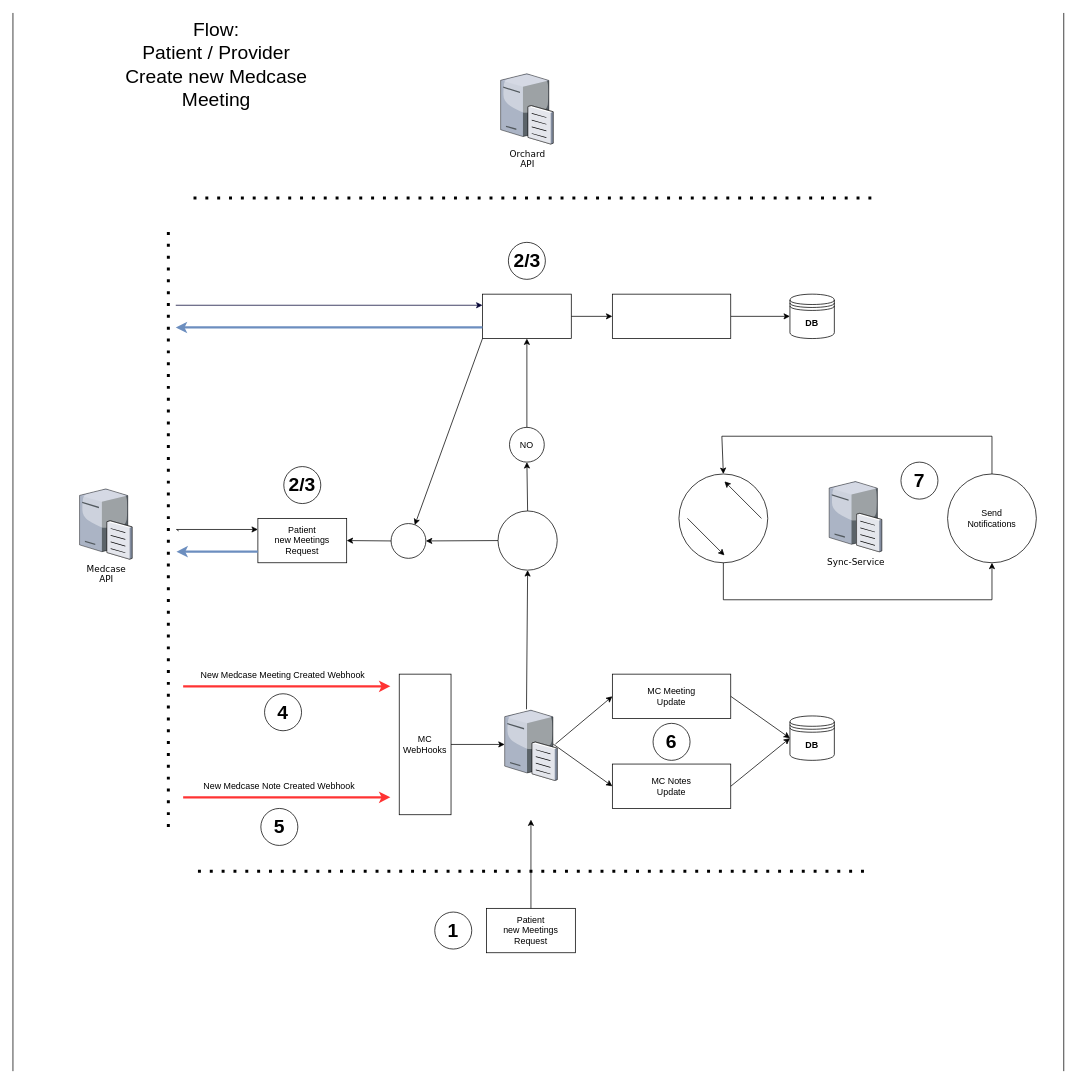
This 1077x1085 diagram has some shape labels left out. The shapes that lost their labels are listed below. From the top down, each one's centre as x and y in pixels, then its label:
At (x=526, y=316): "Create New Medcase Patient".
At (x=671, y=316): "New MC Patietn".
At (x=723, y=518): "MC Meeting Notifications".
At (x=408, y=540): "YES".
At (x=527, y=540): "Is Existing Patient ?".
At (x=530, y=744): "Renegade Api".
